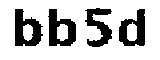5: (84, 5, 114, 48)
b: (46, 5, 79, 47), (12, 4, 42, 49)
d: (118, 7, 150, 48)
